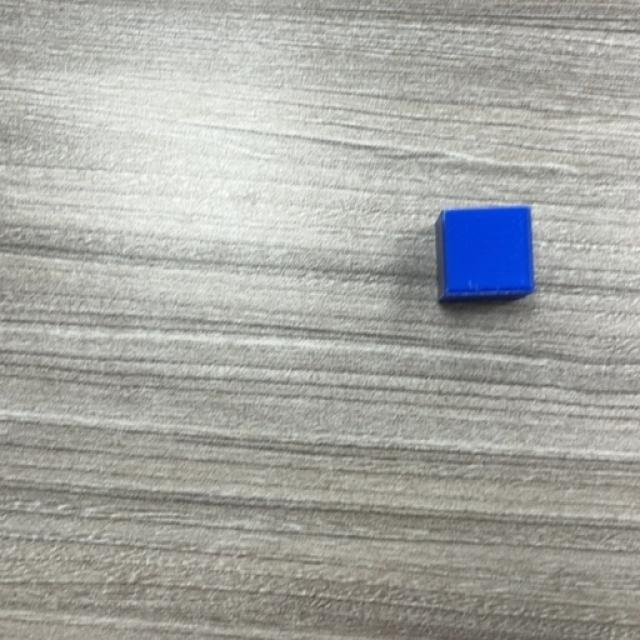Azul: (435, 206, 536, 306)
